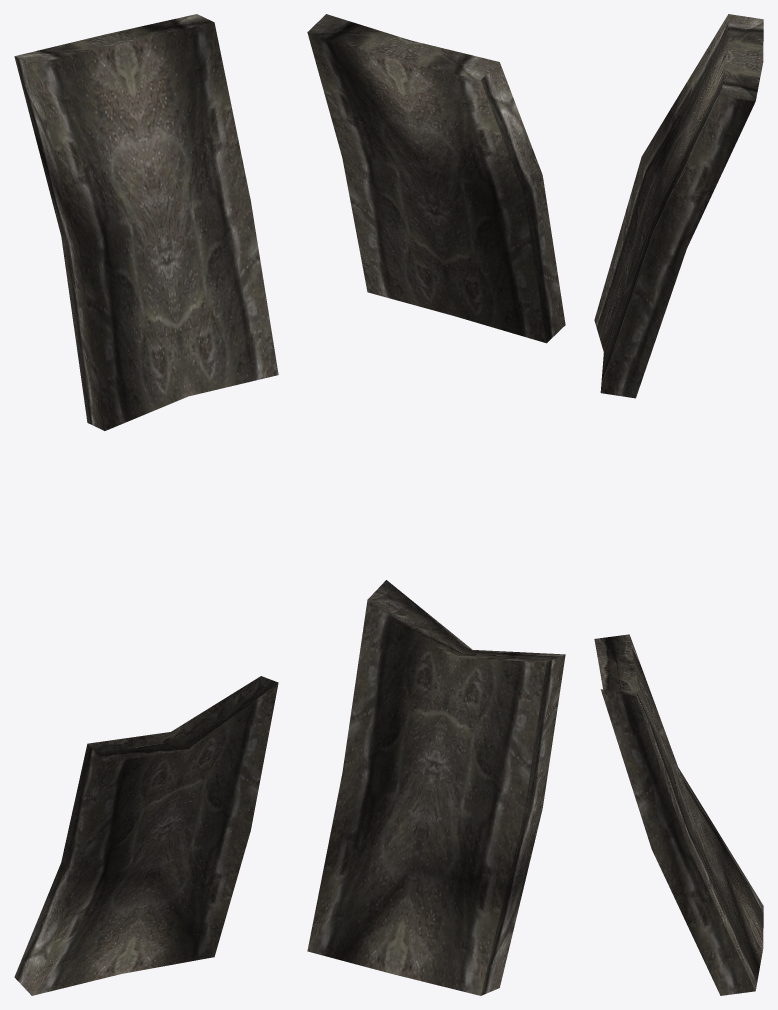
File: bridge-destr_04.obj
The picture shows the model from 3 angles, left to right: view 1: azimuth 30°, elevation 25°; view 2: azimuth 150°, elevation 25°; view 3: azimuth 270°, elevation 25°; orthographic projection. The views are drawn at different scales.
Parts seen in each view (by area): view 1: (null); view 2: (null); view 3: (null).
Part boxes in pixels (x1,y1,x2,y2): (null): (14,14,278,995); (null): (307,14,565,995); (null): (594,14,763,995).
Bounding box in the file's own units: 1.96 × 9.64 × 1.64.
